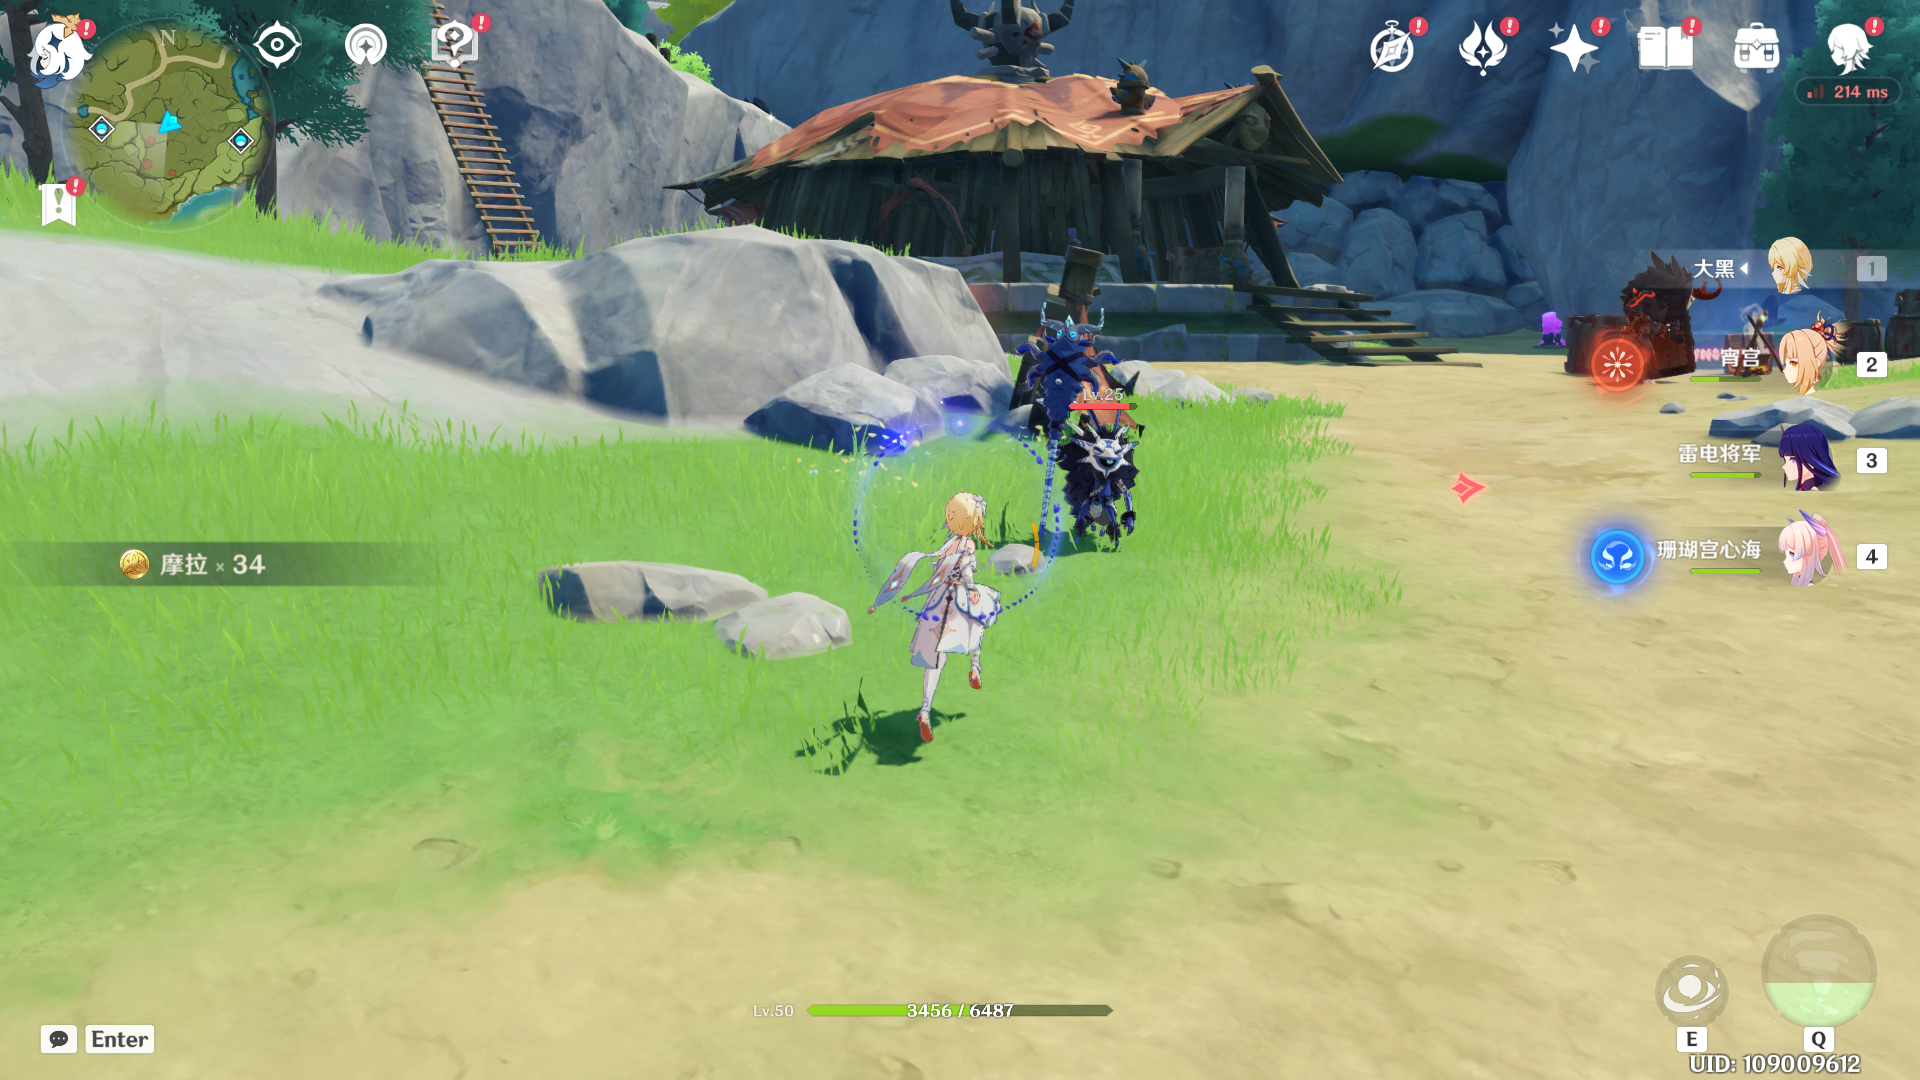bighili: (1547, 233, 1731, 413)
character: (847, 477, 1058, 745)
hili: (1011, 289, 1187, 595)
